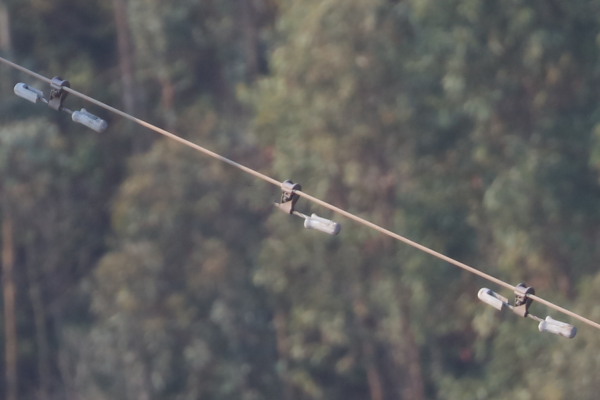damper: (472, 277, 579, 341), (8, 73, 110, 134)
damper_defect: (268, 174, 342, 235)
